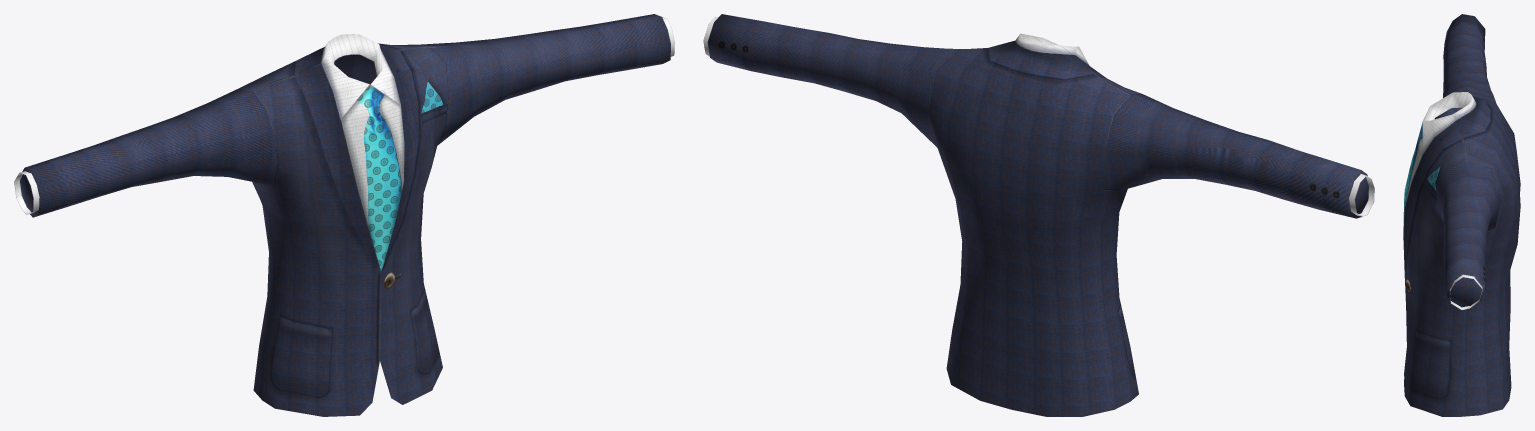
The model's file is suit2.fbx.
3 views of the same model, side by side, from view 1: azimuth 30°, elevation 25°; view 2: azimuth 150°, elevation 25°; view 3: azimuth 270°, elevation 25° (orthographic). The views are drawn at different scales.
Parts seen in each view (by area): view 1: Suit_Mesh_polySurface1; view 2: Suit_Mesh_polySurface1; view 3: Suit_Mesh_polySurface1.
Boxes of the visible parts, x1=… form: Suit_Mesh_polySurface1: x1=14, y1=14, x2=674, y2=416; Suit_Mesh_polySurface1: x1=703, y1=14, x2=1374, y2=416; Suit_Mesh_polySurface1: x1=1403, y1=14, x2=1520, y2=416.
Bounding box in the file's own units: 41.73 × 21.5 × 7.88.
1 material, 1 textured.
